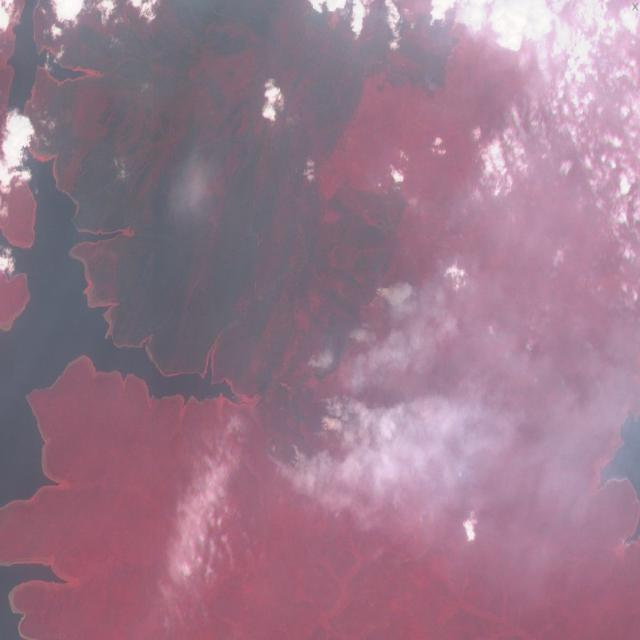fire: (305, 310, 400, 381), (263, 430, 311, 493), (314, 385, 368, 440), (426, 5, 472, 68), (371, 280, 394, 300)
